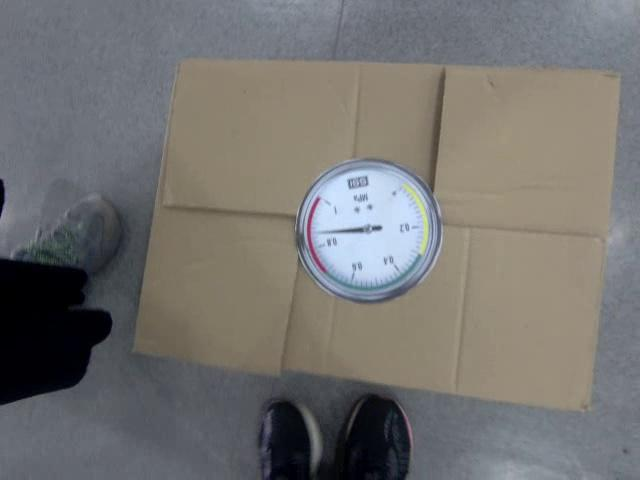Dashboard: (295, 158, 444, 307)
ssi: (344, 174, 370, 188)
